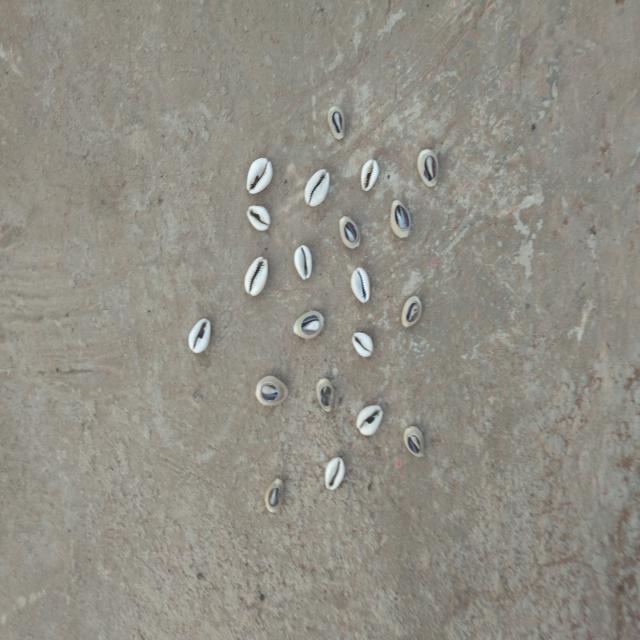facedown: (255, 374, 291, 407), (293, 309, 326, 342), (387, 199, 414, 238), (417, 148, 443, 188), (338, 214, 363, 252), (314, 376, 337, 414), (401, 292, 424, 330), (264, 477, 286, 516), (402, 424, 426, 458), (327, 107, 348, 141)
faceup: (244, 157, 276, 197), (241, 256, 270, 296), (304, 169, 331, 210), (188, 315, 213, 357), (349, 263, 373, 306), (356, 401, 384, 437), (322, 453, 346, 494), (293, 244, 315, 282), (246, 204, 272, 234), (360, 158, 381, 192), (350, 332, 374, 359)
